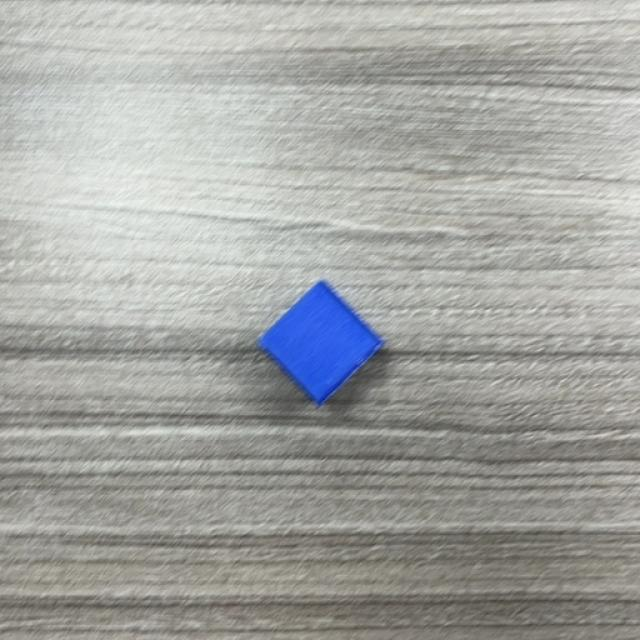Azul: (256, 280, 385, 406)
